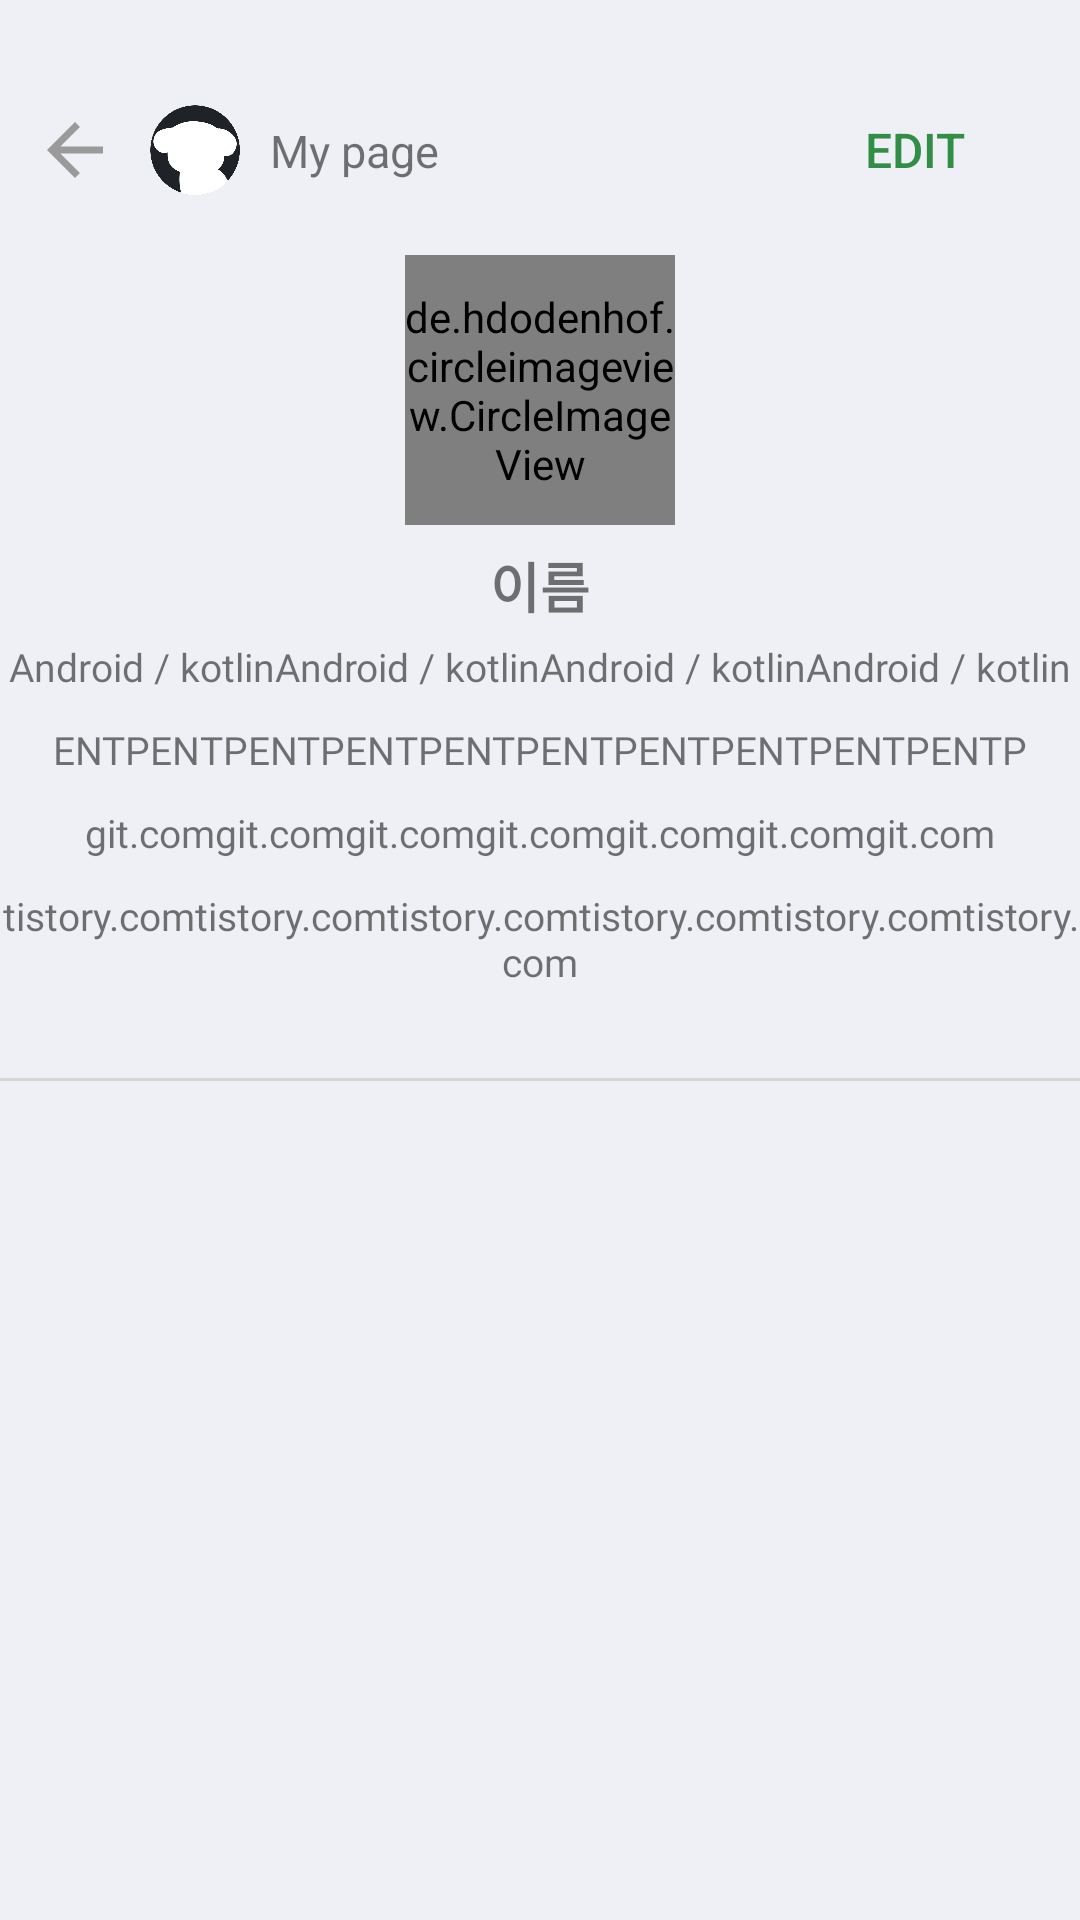

Screen size 1080 × 1920. Icon name, then its box in pixels as [x1, y1, x2, y2]:
arrow back: [47, 122, 103, 178]
